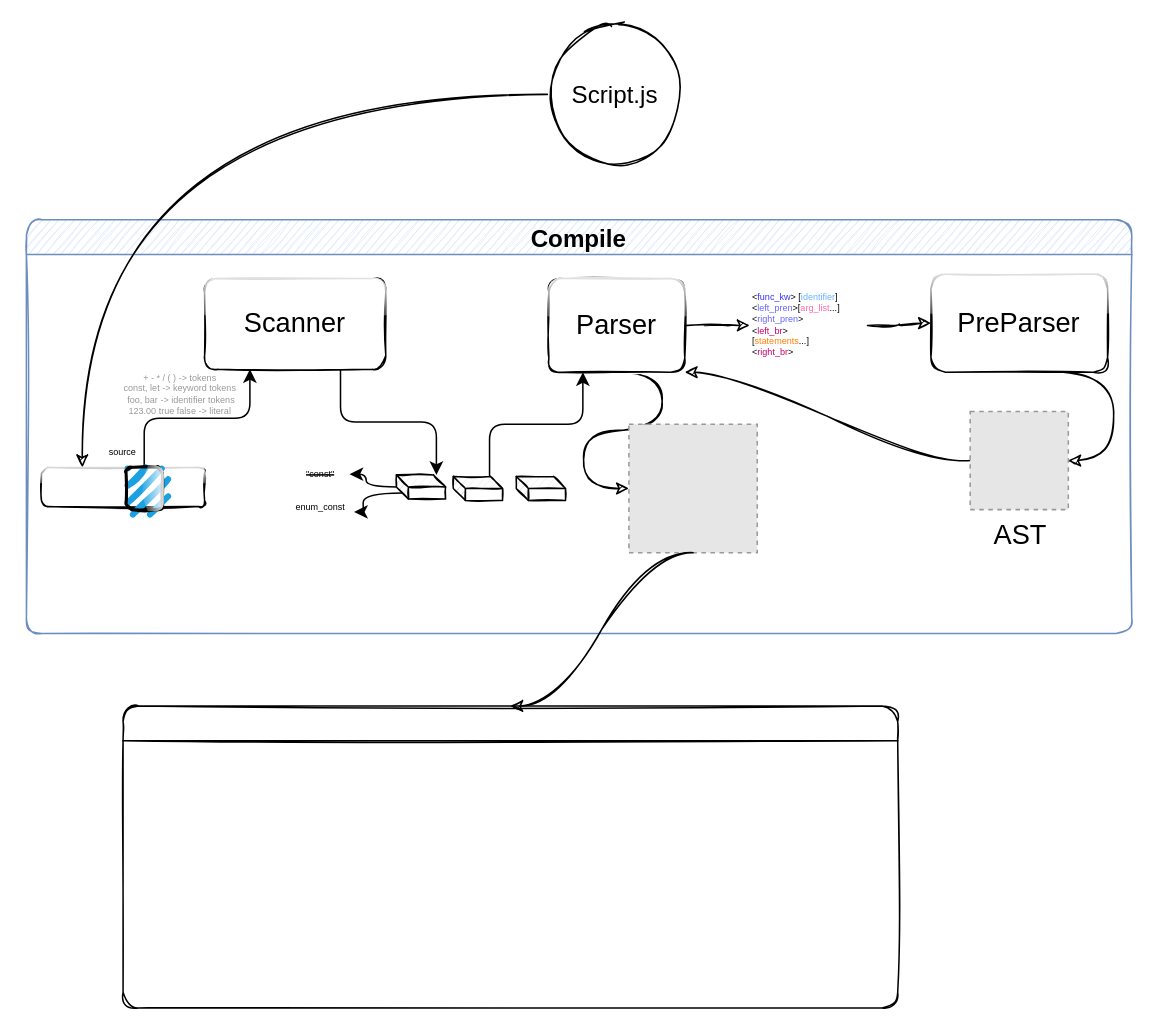
Some shapes in this 1158 by 1034 pixel diagram are drawn without their labels. Grey dashed boxes stand in for pictures. Each missing label, with the centre of its shape:
"buffer" belongs at (x=143, y=487).
"Run" belongs at (x=510, y=856).
"tokens" belongs at (x=477, y=488).
